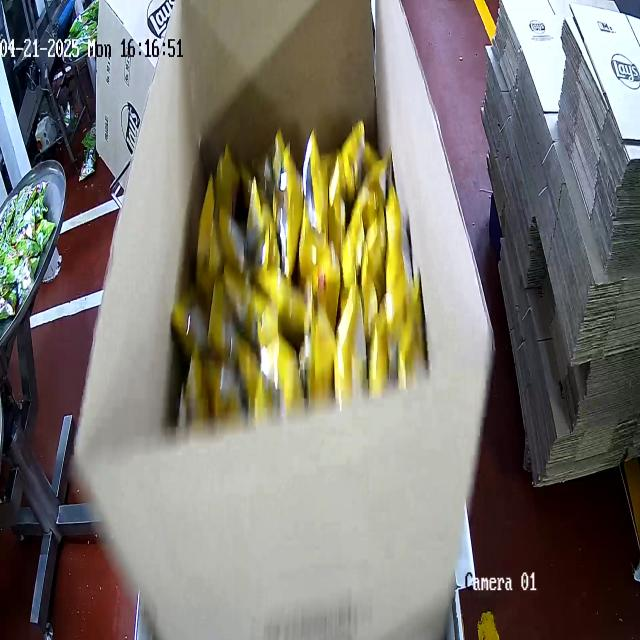SALTED: (177, 137, 410, 390)
